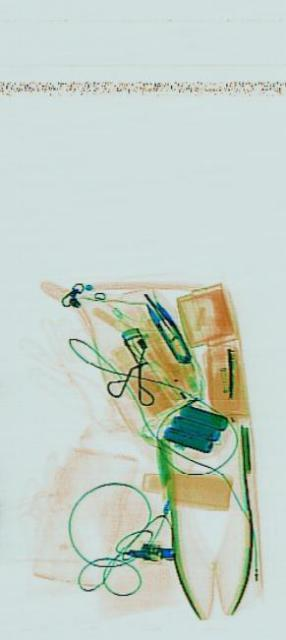Scissors: (144, 288, 190, 372)
